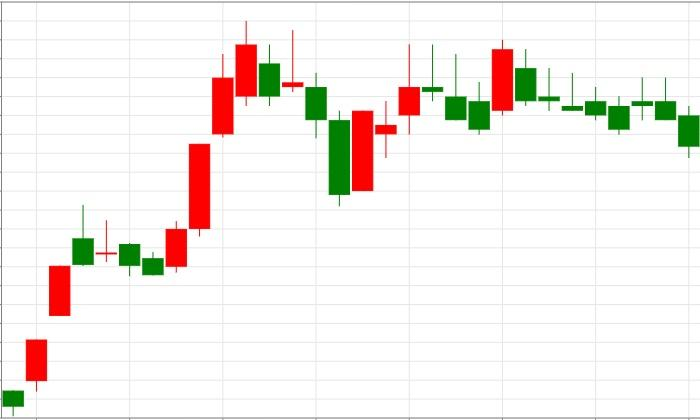three_white_soldiers_rise: (72, 53, 234, 275)
